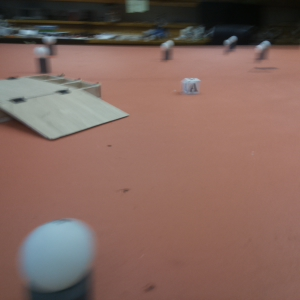blockA: (178, 76, 204, 99)
obstacle: (14, 220, 106, 300), (30, 45, 56, 70), (158, 42, 179, 67), (219, 34, 239, 57), (257, 41, 276, 60)
side: (33, 72, 103, 91)
slope: (8, 90, 112, 133)
start: (247, 62, 281, 74)
